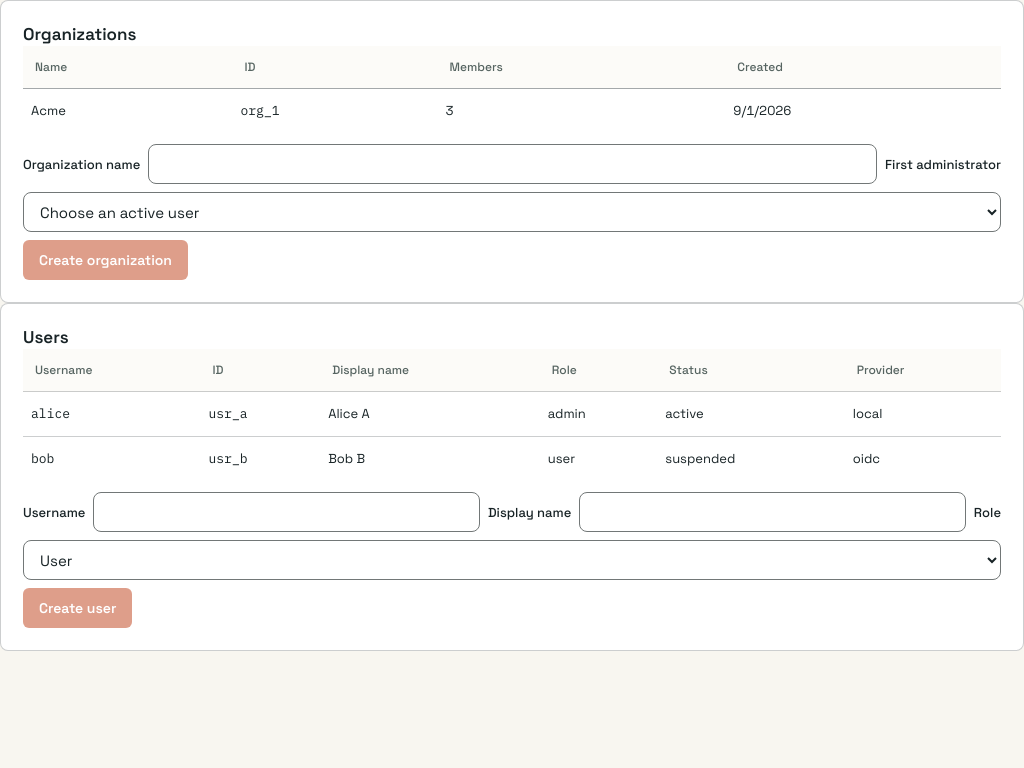
Test case: maps an organization refusal 409 organization_exists to fixed text
This screenshot has width=1024, height=768.
Expected: the text "Acme" is shown, x1=23 y1=88 x2=232 y2=132
Type "Acme" into the field labelled "Organization name".
click(513, 164); type("Acme")  # box x1=148 y1=144 x2=877 y2=184
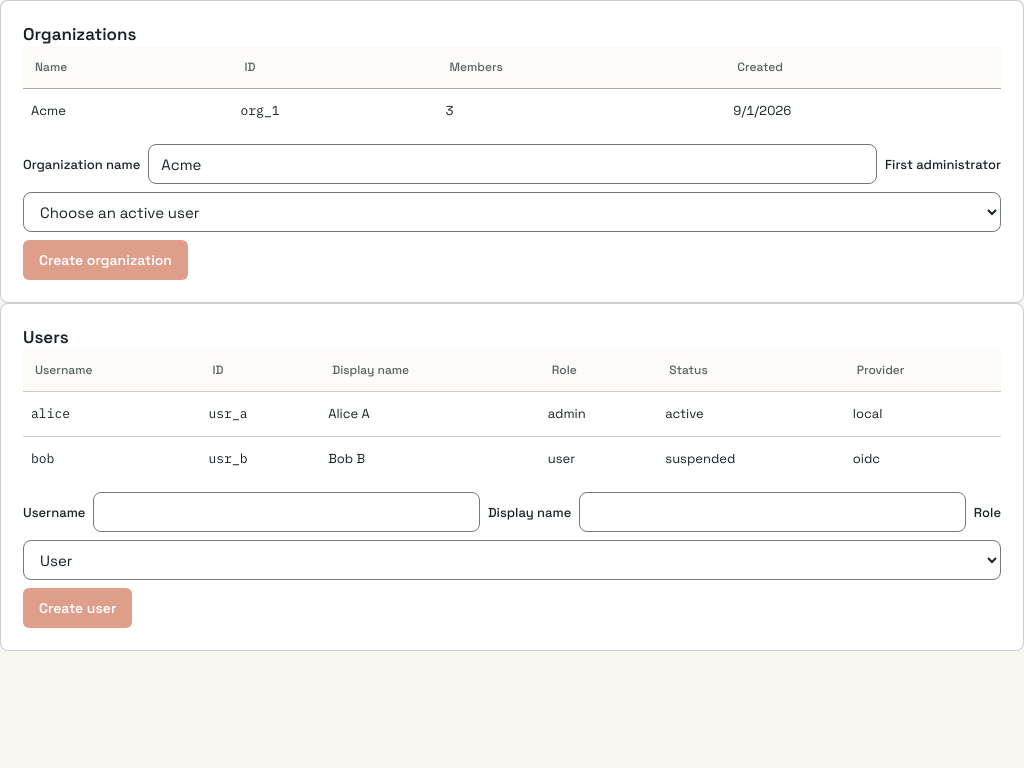
Select "alice (Alice A)" in the dropdown labelled "First administrator" at (512, 212), box x1=23 y1=192 x2=1001 y2=232
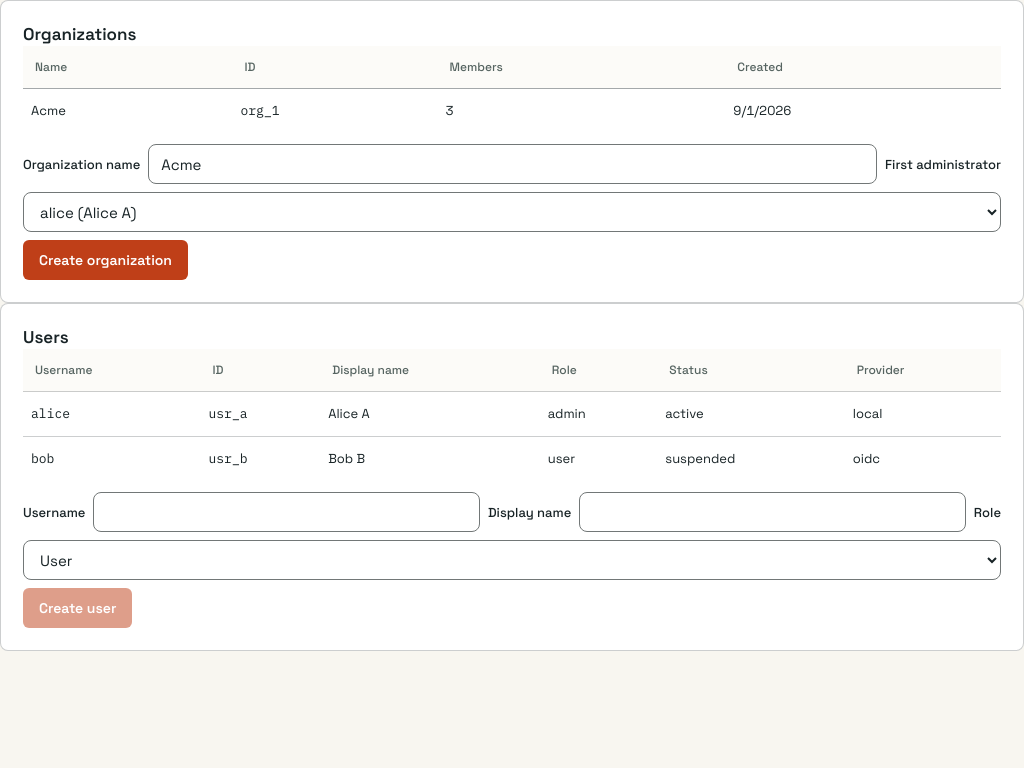
Click the button "Create organization".
click(106, 260)  # box x1=23 y1=240 x2=188 y2=280
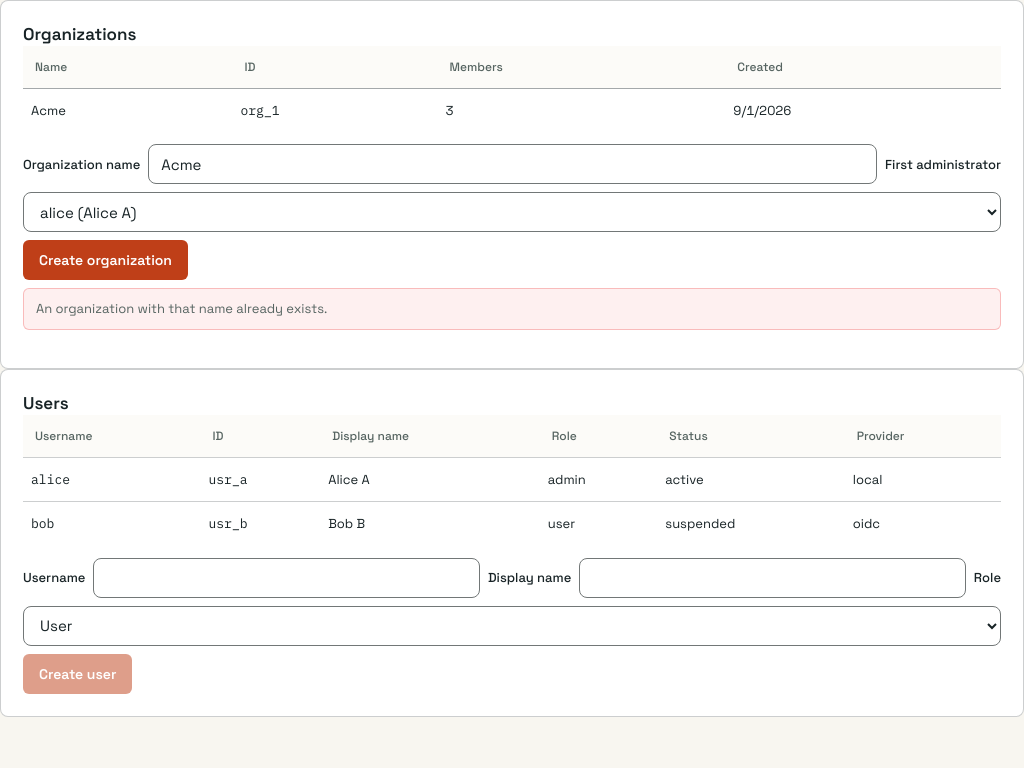
Expected: the text "An organization with that name already exists." is shown, x1=23 y1=288 x2=1001 y2=330
